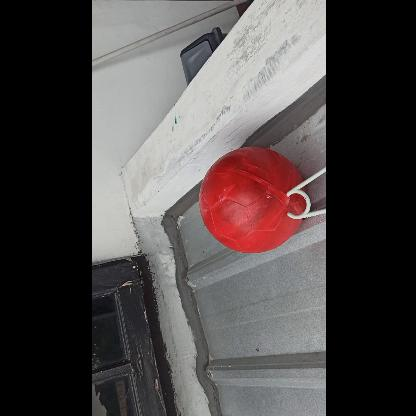red_ball: (198, 146, 304, 254)
